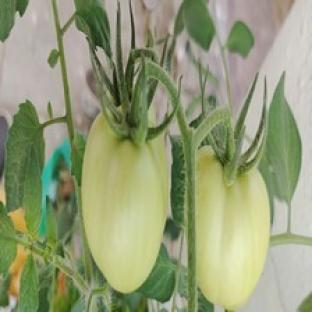Tomato: (83, 113, 168, 292), (197, 147, 270, 310), (9, 246, 27, 296)
